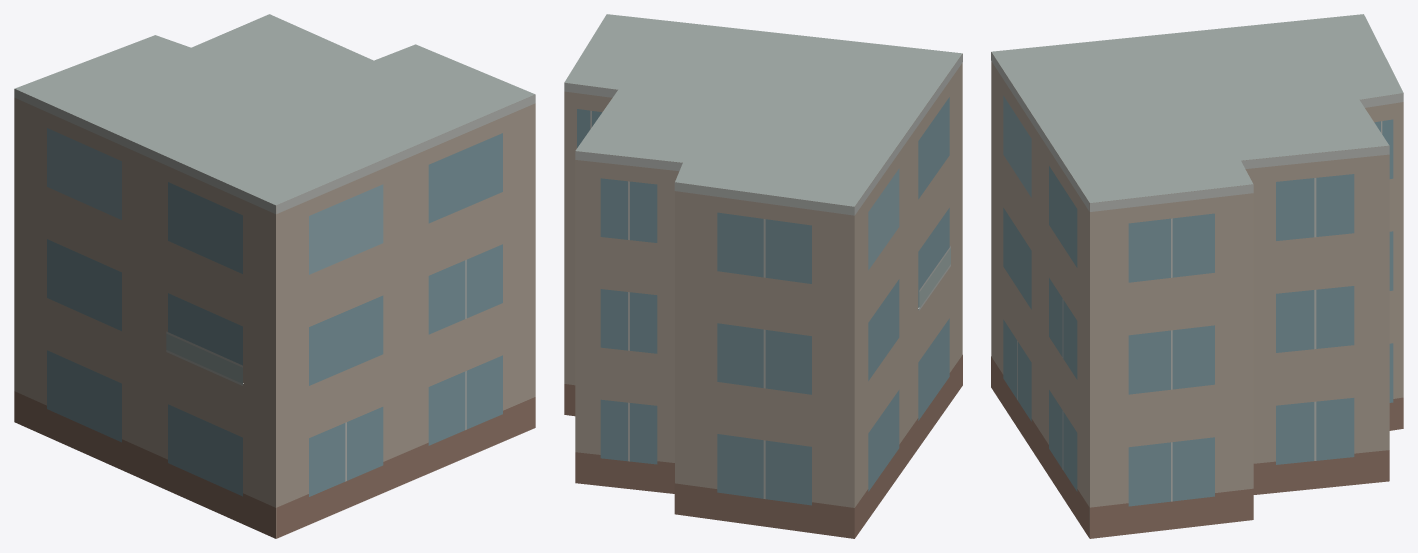
Rendered from survey-upis-32950413.glb.
3 views of the same model, side by side, from view 1: azimuth 30°, elevation 25°; view 2: azimuth 150°, elevation 25°; view 3: azimuth 270°, elevation 25° (orthographic).
Visible parts, largest first — view 1: survey-upis-32950413.tmp; view 2: survey-upis-32950413.tmp; view 3: survey-upis-32950413.tmp.
Part boxes in pixels (box(x1,y1,x2,y2)): survey-upis-32950413.tmp: box(14, 14, 535, 538); survey-upis-32950413.tmp: box(564, 14, 962, 538); survey-upis-32950413.tmp: box(991, 14, 1403, 538).
Bounding box in the file's own units: 11.07 × 9.15 × 10.2.
